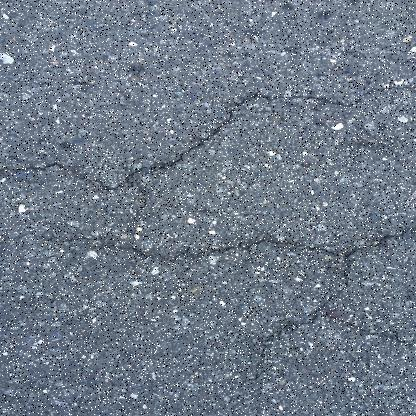Cracks: (22, 219, 416, 385), (0, 85, 393, 194)
